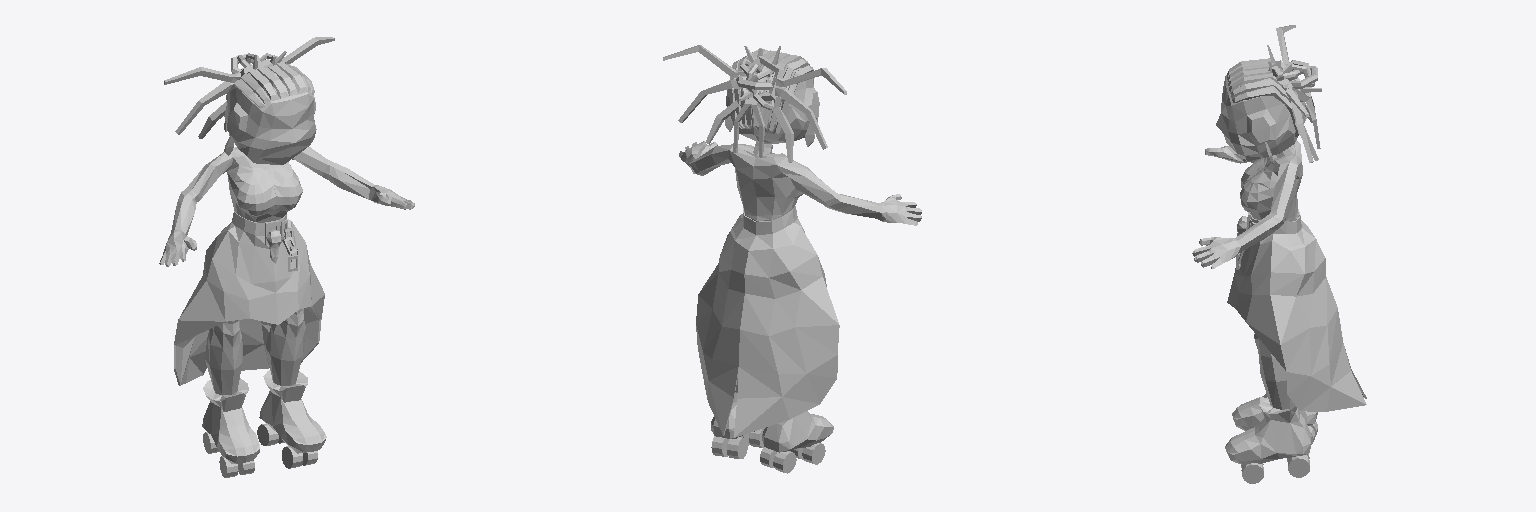
File: bruja_000224.obj
3 renders of one model, left to right at view 1: azimuth 30°, elevation 25°; view 2: azimuth 150°, elevation 25°; view 3: azimuth 270°, elevation 25°, orthographic.
Parts seen in each view (by area): view 1: Bruja_Plane.001; view 2: Bruja_Plane.001; view 3: Bruja_Plane.001.
Part boxes in pixels (x1,y1,x2,y2): Bruja_Plane.001: (159,37,414,477); Bruja_Plane.001: (663,45,921,473); Bruja_Plane.001: (1192,25,1366,483).
Size of the model in its own units: 10.34 by 16.69 by 6.38.